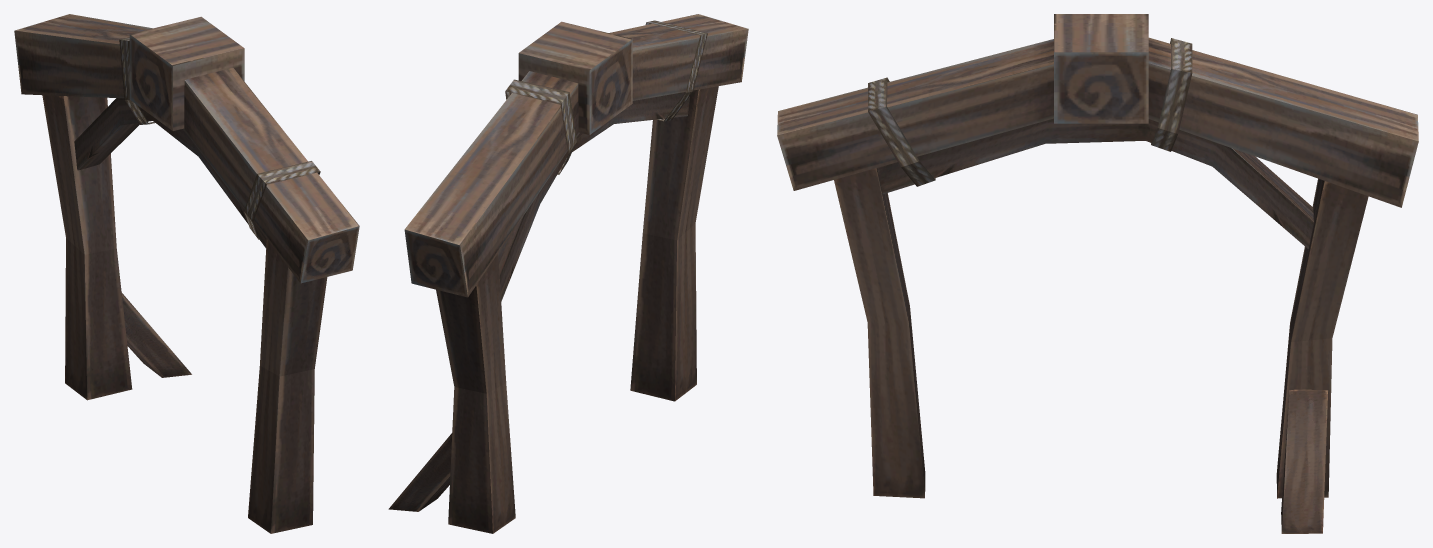
The model's file is mine_supportbeams01.fbx.
The picture shows the model from 3 angles, left to right: view 1: azimuth 30°, elevation 25°; view 2: azimuth 150°, elevation 25°; view 3: azimuth 270°, elevation 25°; orthographic projection. The views are drawn at different scales.
Visible parts, largest first — view 1: obj0.047; view 2: obj0.047; view 3: obj0.047.
Boxes of the visible parts, <box> form: obj0.047: <box>14,14,359,533</box>; obj0.047: <box>388,14,748,533</box>; obj0.047: <box>777,14,1418,533</box>.
Bounding box in the file's own units: 1.99 × 6.38 × 8.18.
